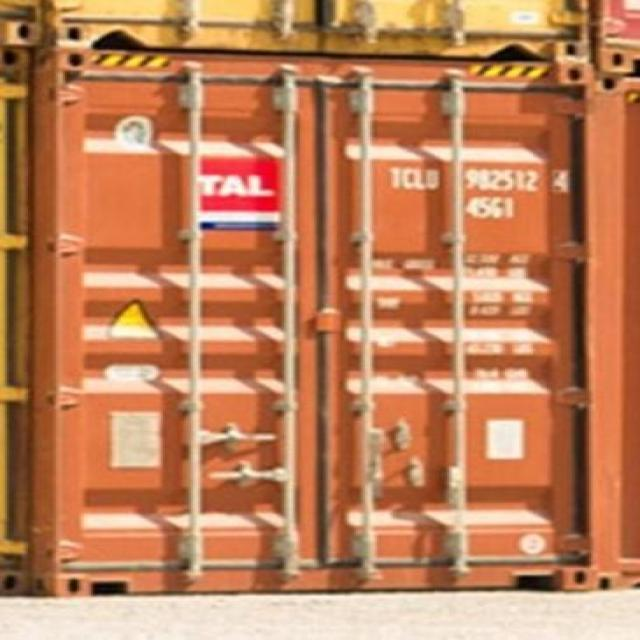ISO: (466, 198, 518, 223)
container_number: (392, 168, 565, 198)
